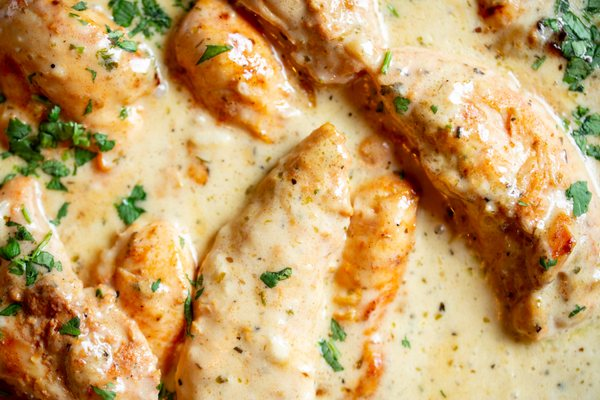curry: (5, 102, 115, 190), (534, 0, 600, 90), (107, 0, 172, 45), (115, 183, 148, 225)
